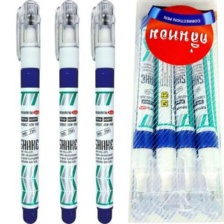correction_fluid: (188, 9, 223, 220), (170, 9, 204, 220), (51, 0, 81, 224), (14, 0, 44, 223), (89, 0, 117, 224), (128, 10, 157, 221), (152, 10, 180, 221)
